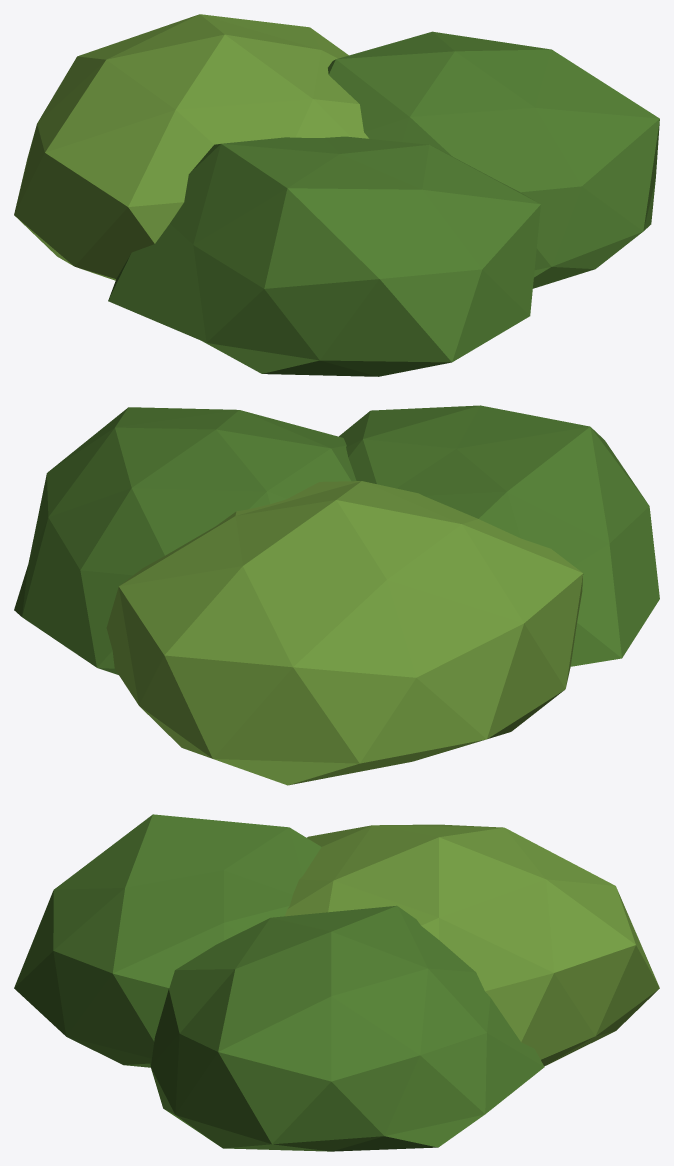
Rendered from bush_green.glb.
The picture shows the model from 3 angles, top to bottom: view 1: azimuth 30°, elevation 25°; view 2: azimuth 150°, elevation 25°; view 3: azimuth 270°, elevation 25°; orthographic projection. The views are drawn at different scales.
Parts seen in each view (by area): view 1: bush_green; view 2: bush_green; view 3: bush_green.
Part boxes in pixels (x1,y1,x2,y2): bush_green: (14, 14, 659, 376); bush_green: (14, 405, 659, 785); bush_green: (14, 814, 659, 1151).
Bounding box in the file's own units: 1.44 × 0.4633 × 1.6.
